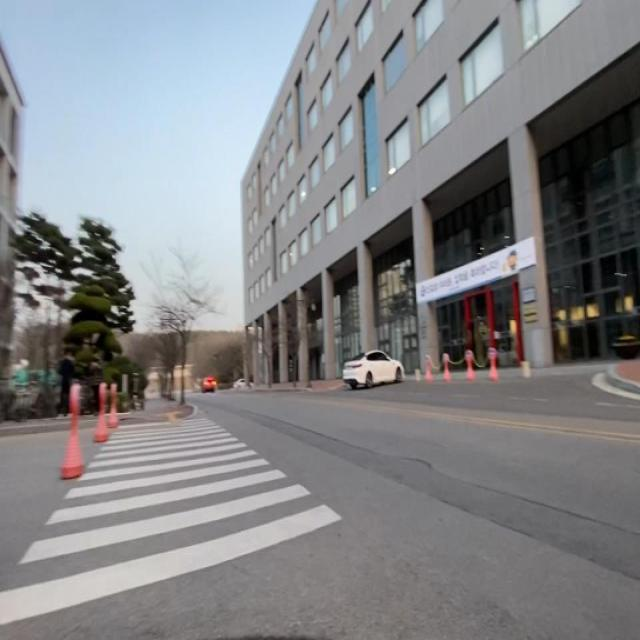sidewalk: (133, 394, 193, 423), (615, 357, 640, 385)
